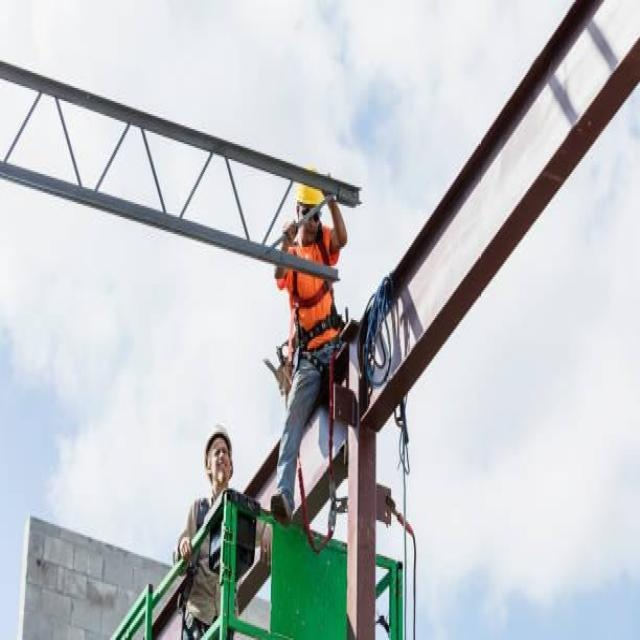Arnes_seguridad: (181, 486, 240, 640), (292, 228, 345, 387)
